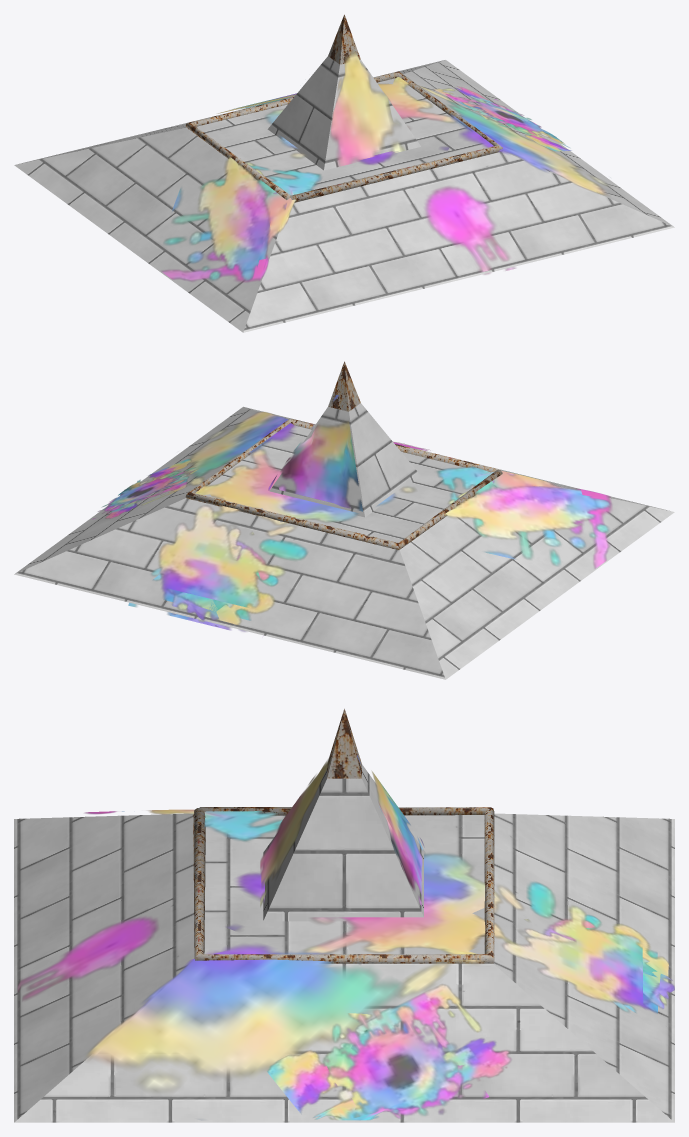
File: Plat_Funbox.glb
The picture shows the model from 3 angles, top to bottom: view 1: azimuth 30°, elevation 25°; view 2: azimuth 150°, elevation 25°; view 3: azimuth 270°, elevation 25°; orthographic projection. The views are drawn at different scales.
Visible parts, largest first — view 1: Plat_Funbox_Body, Plat_Funbox_Paint, Plat_Funbox_Coping; view 2: Plat_Funbox_Body, Plat_Funbox_Paint, Plat_Funbox_Coping; view 3: Plat_Funbox_Body, Plat_Funbox_Paint, Plat_Funbox_Coping.
Boxes of the visible parts, bbox=[...] form: Plat_Funbox_Body: bbox=[14, 56, 674, 332]; Plat_Funbox_Paint: bbox=[161, 50, 610, 282]; Plat_Funbox_Coping: bbox=[185, 14, 502, 202]; Plat_Funbox_Body: bbox=[14, 403, 674, 679]; Plat_Funbox_Paint: bbox=[92, 395, 612, 631]; Plat_Funbox_Coping: bbox=[185, 361, 502, 549]; Plat_Funbox_Body: bbox=[14, 764, 674, 1122]; Plat_Funbox_Paint: bbox=[17, 754, 674, 1120]; Plat_Funbox_Coping: bbox=[193, 708, 494, 963].
Bounding box in the file's own units: 6.24 × 2.54 × 5.7.
3 materials, 3 textured.
